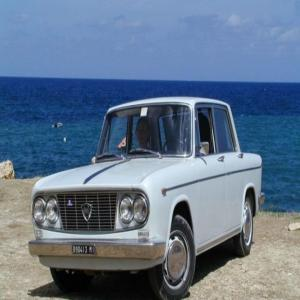Vehicle-registration-plate: (74, 246, 96, 256)
